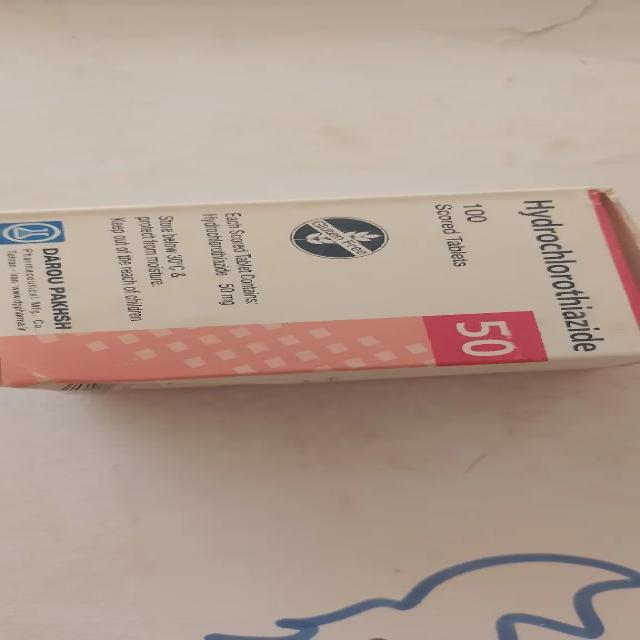drug-name: (514, 191, 611, 355)
